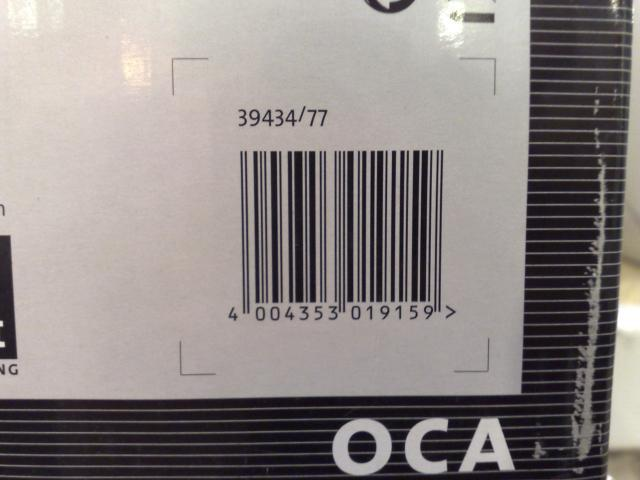Barkod: (237, 148, 443, 302)
